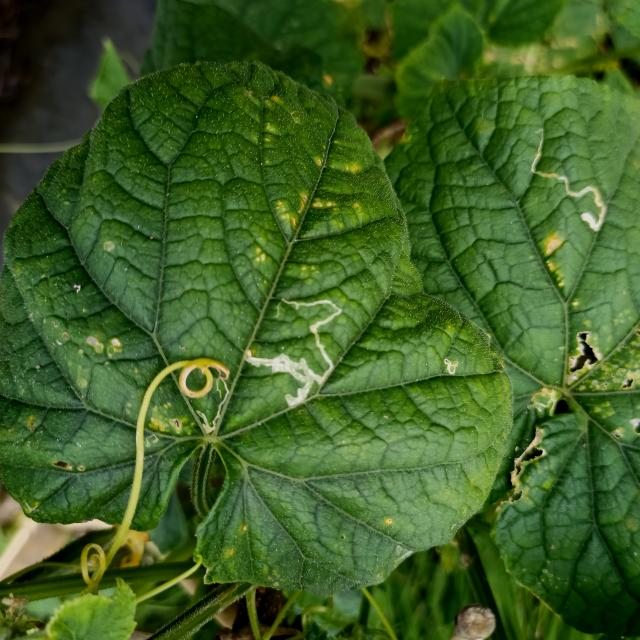disease_cucumber: (278, 186, 340, 228), (150, 404, 193, 434)
